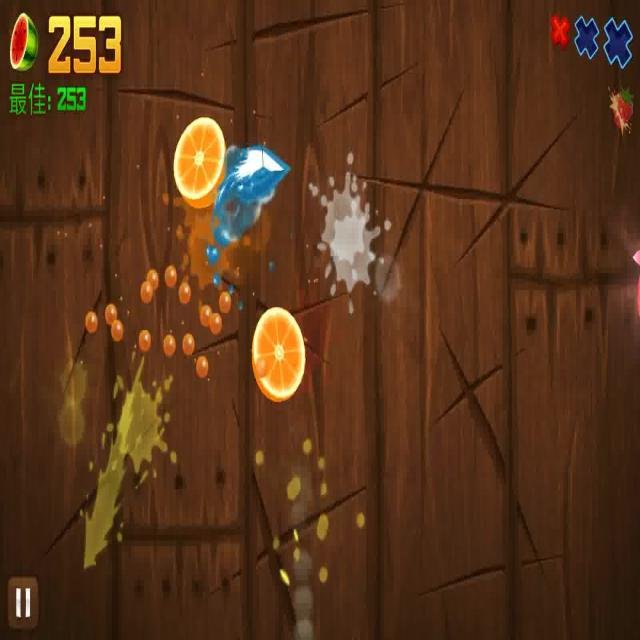fruit: (250, 306, 305, 401), (170, 116, 227, 207)
